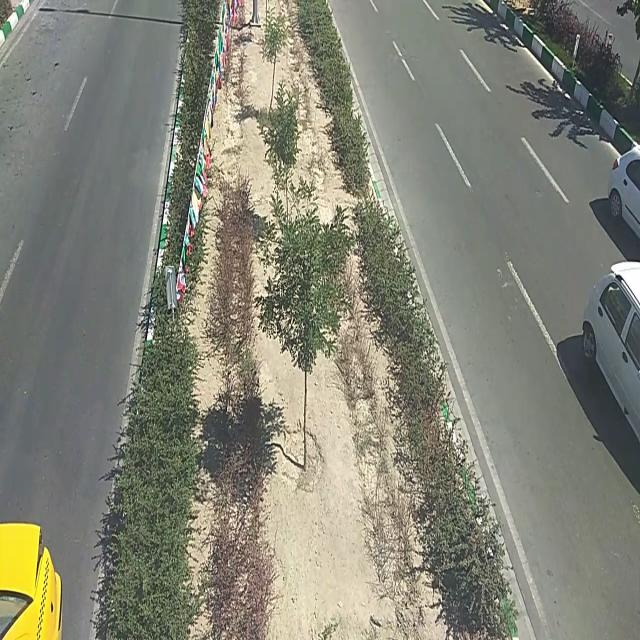car: (584, 261, 640, 443), (607, 137, 640, 243)
